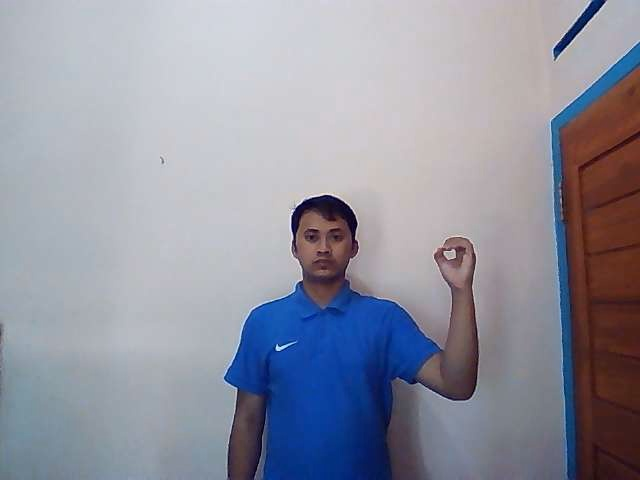O: (433, 236, 479, 292)
